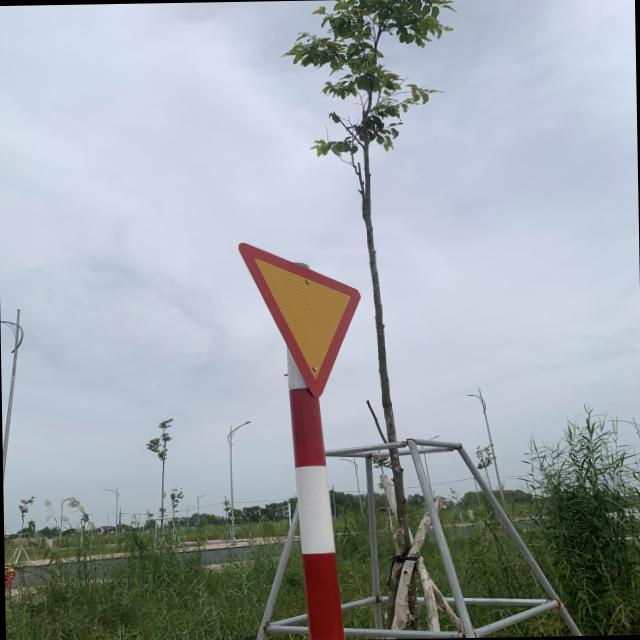Gioi_Han_Toc_Do_25: (236, 241, 363, 400)
